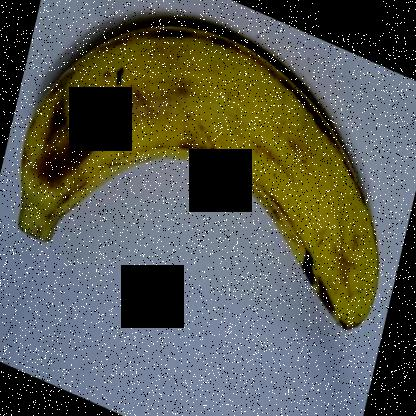overripe: (16, 5, 393, 340)
